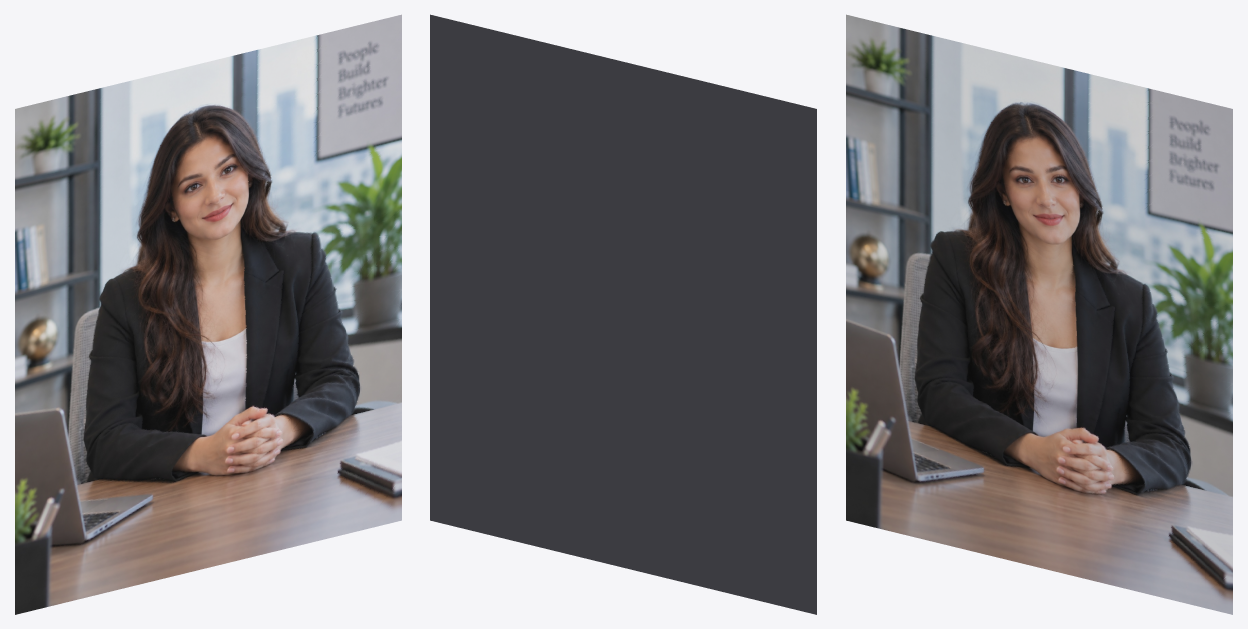
File: portrait_lipsync.glb
3 renders of one model, left to right at view 1: azimuth 30°, elevation 25°; view 2: azimuth 150°, elevation 25°; view 3: azimuth 330°, elevation 25°, orthographic.
Visible parts, largest first — view 1: Portrait; view 2: Back; view 3: Portrait.
Boxes of the visible parts, left/top/right/bottom form: Portrait: left=15, top=14, right=401, bottom=614; Back: left=430, top=14, right=816, bottom=614; Portrait: left=846, top=14, right=1232, bottom=614.
Bounding box in the file's own units: 1.12 × 1.4 × 0.004.
3 materials, 2 textured.
